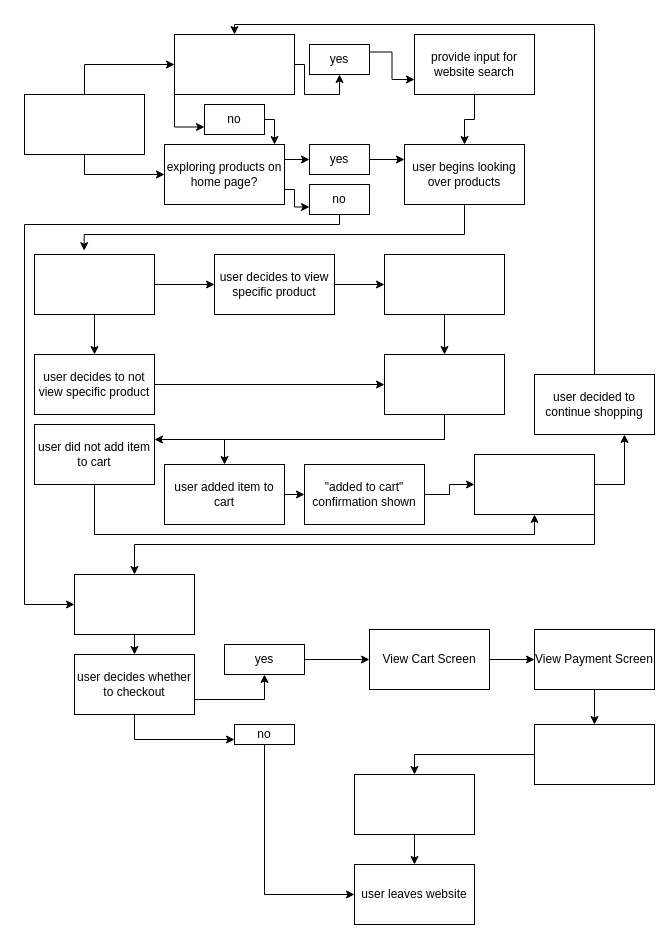
This 672x942 diagram has some shape labels left out. The shapes that lost their labels are listed below. From the top down, each one's centre as x and y in pixels, then its label:
At point 234,64: "Search for a product?".
At point 84,124: "User enters website".
At point 94,284: "user can view a specific product".
At point 444,284: "webpage for specific product opens".
At point 444,384: "user decides whether to add item to cart".
At point 534,484: "continue shopping?".
At point 134,604: "user decided to not continue shopping".
At point 594,754: "User inputs payment information".
At point 414,804: "order confirmation screen and email recieved at same time".
